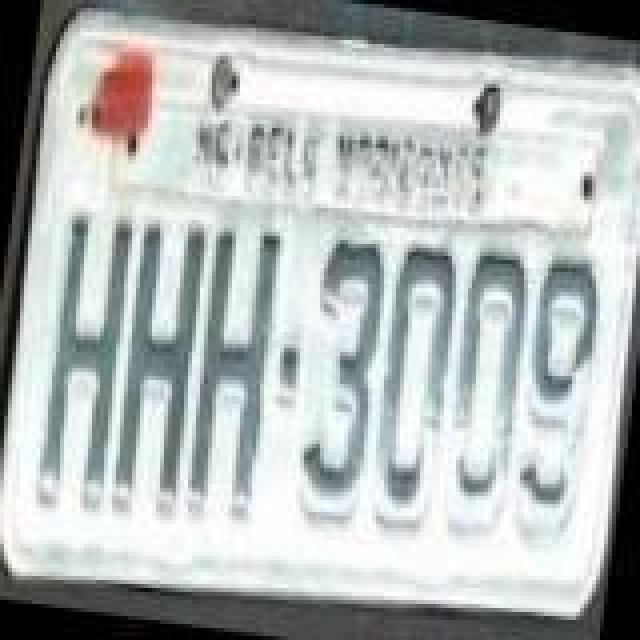3: (288, 228, 400, 524)
9: (504, 248, 616, 544)
H: (102, 210, 218, 526), (174, 216, 290, 520), (32, 208, 144, 512)
O: (360, 234, 472, 534), (432, 244, 544, 540)
